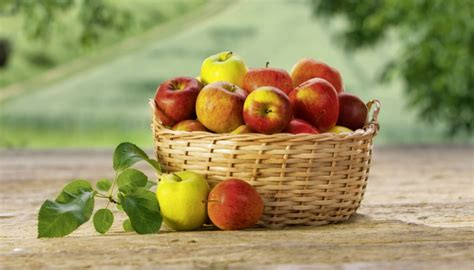apple: (202, 177, 266, 234), (157, 169, 209, 230), (149, 69, 204, 126), (194, 79, 249, 134), (290, 77, 341, 132), (240, 88, 296, 137), (198, 50, 248, 94), (243, 61, 295, 103)
